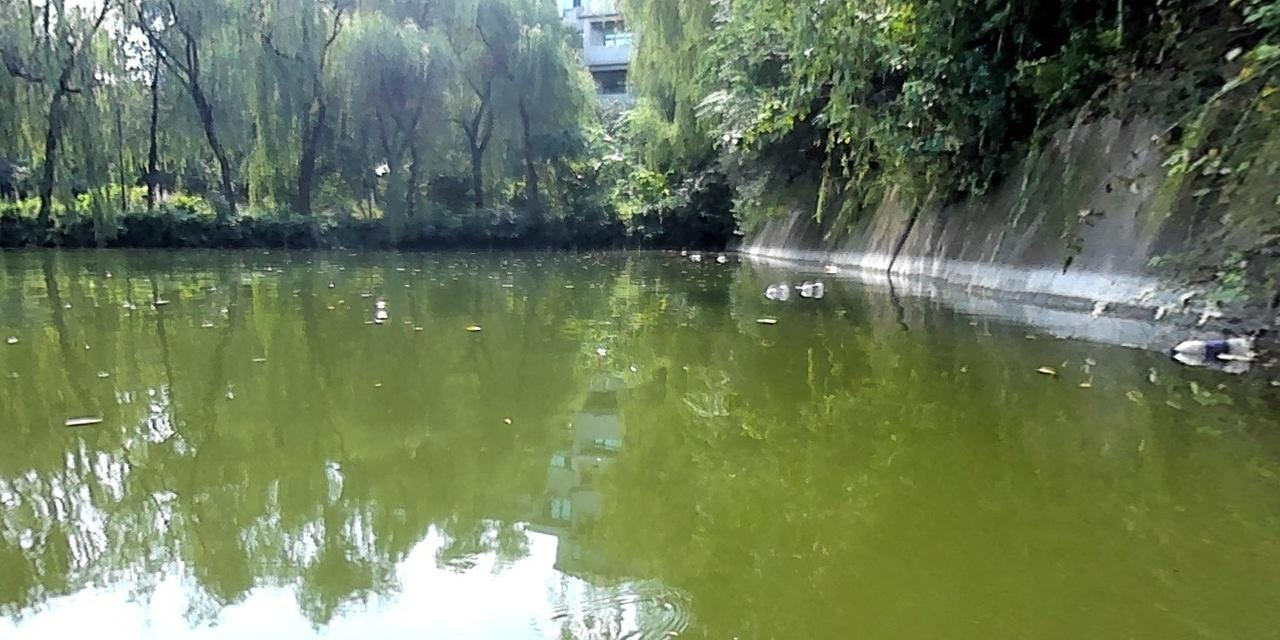bottle: (1163, 333, 1254, 360), (795, 280, 826, 292), (759, 283, 789, 295)
